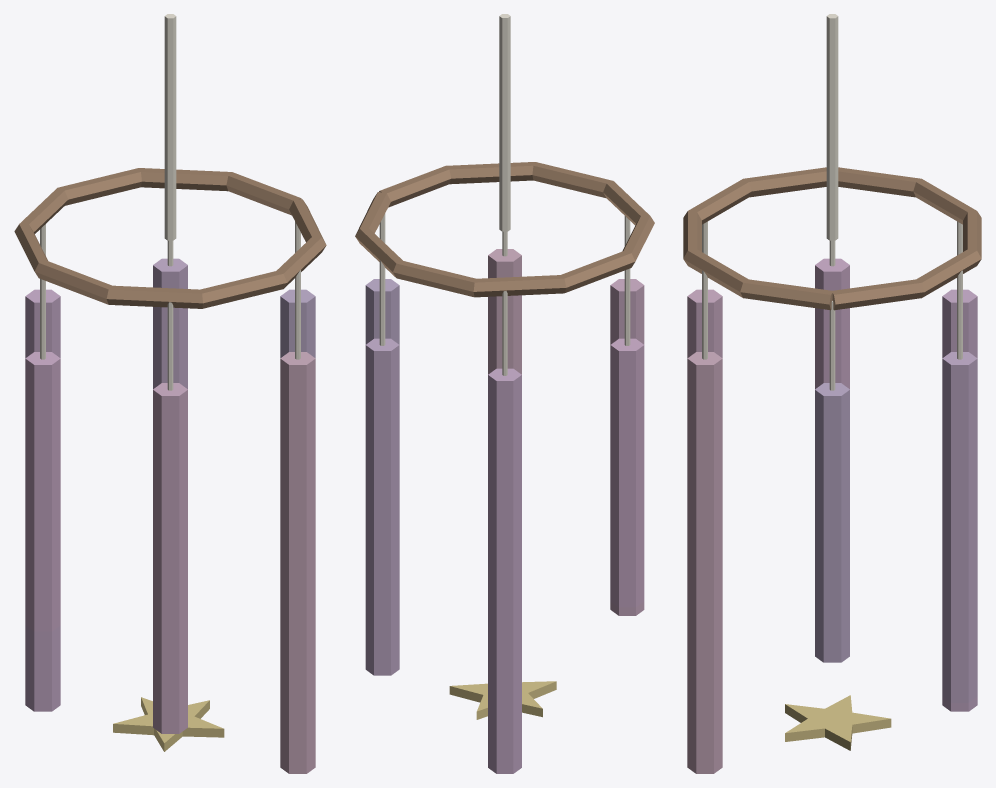
Rendered from WindChimes.fbx.
The picture shows the model from 3 angles, left to right: view 1: azimuth 30°, elevation 25°; view 2: azimuth 150°, elevation 25°; view 3: azimuth 270°, elevation 25°; orthographic projection. The views are drawn at different scales.
Visible parts, largest first — view 1: Prop_WindChimes; view 2: Prop_WindChimes; view 3: Prop_WindChimes.
Part boxes in pixels (x1,y1,x2,y2): Prop_WindChimes: (14,14,326,773); Prop_WindChimes: (355,14,654,773); Prop_WindChimes: (683,14,981,773).
Size of the model in its own units: 0.3312 by 0.81 by 0.3043.
